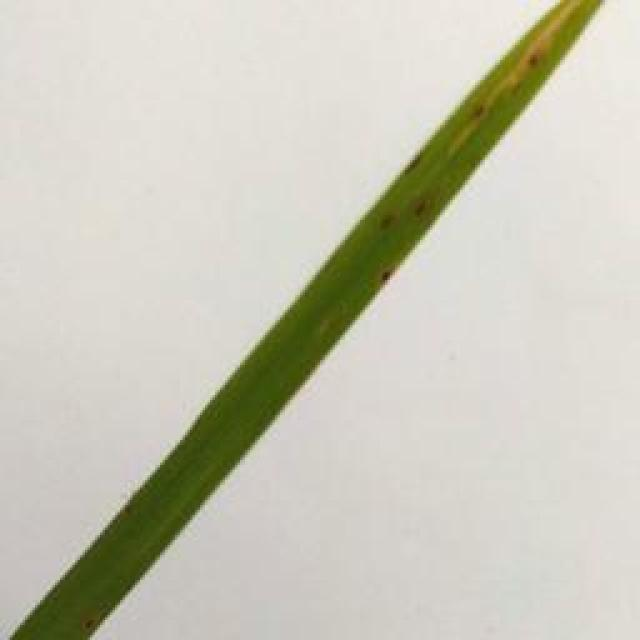Brown_Spot: (398, 136, 426, 180), (408, 192, 439, 222), (458, 94, 489, 124), (375, 268, 404, 296), (366, 207, 396, 229), (521, 54, 540, 68)
